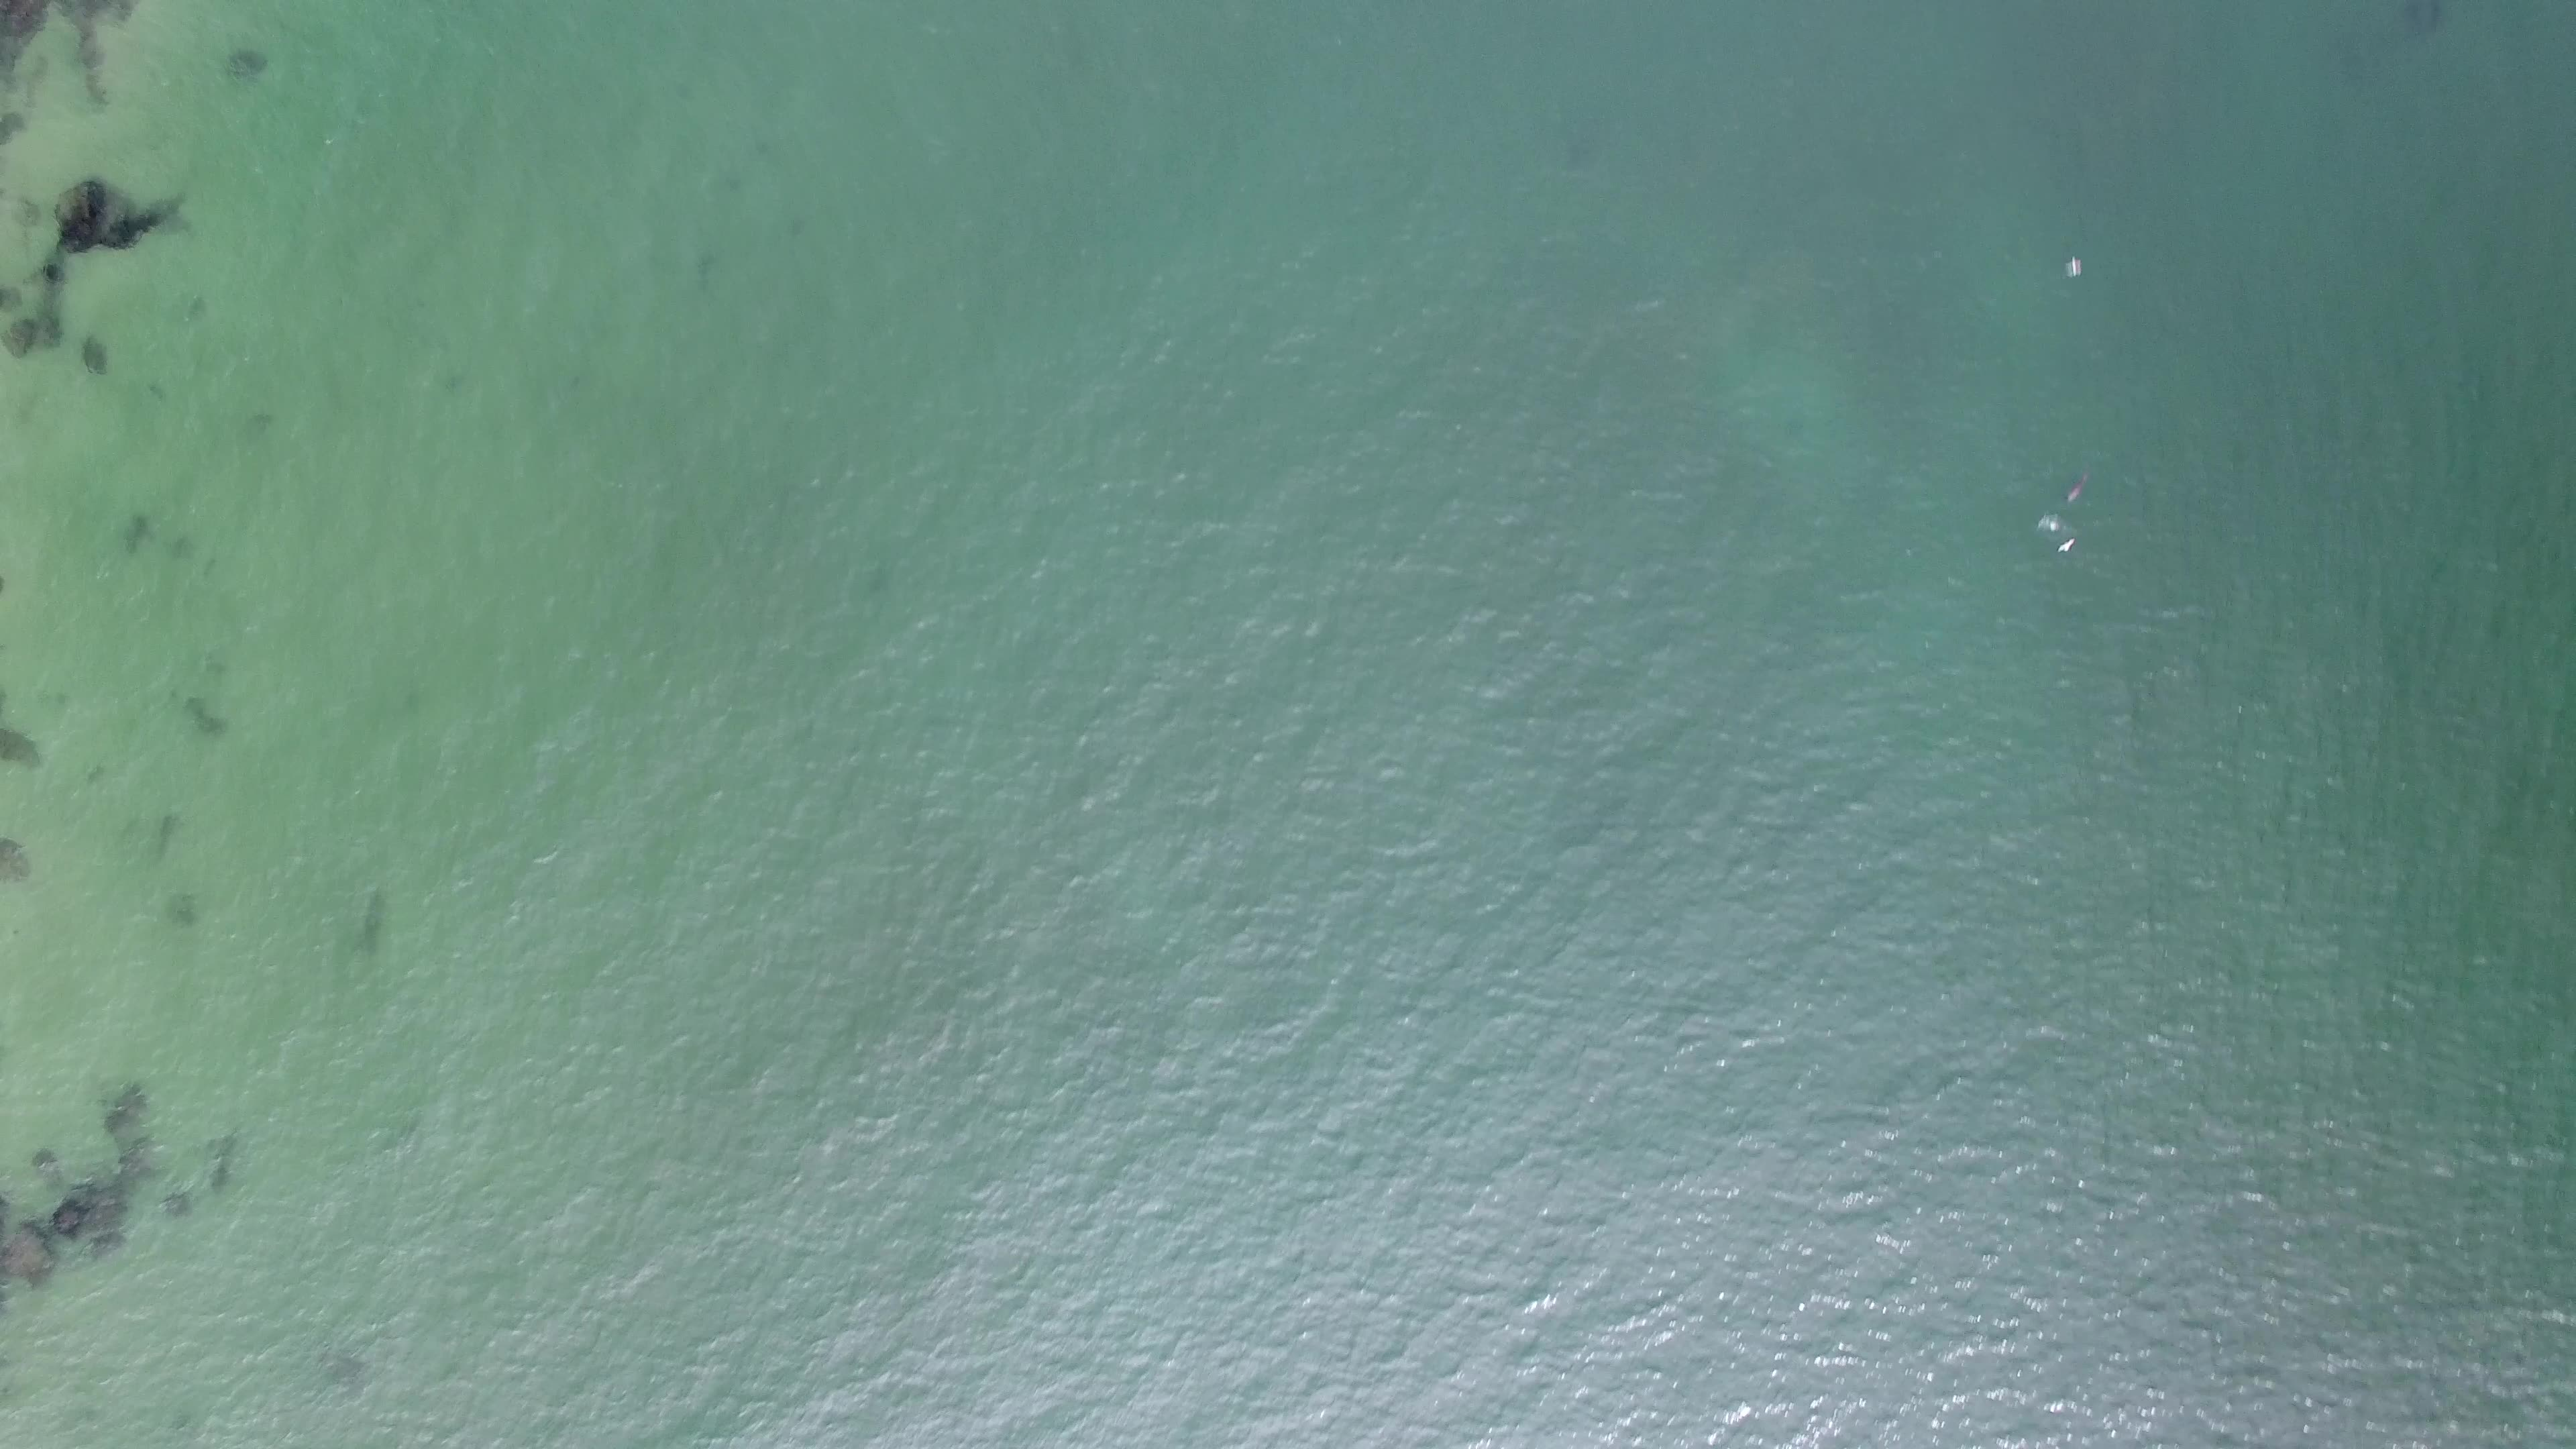dolphin: (2054, 462, 2102, 508)
